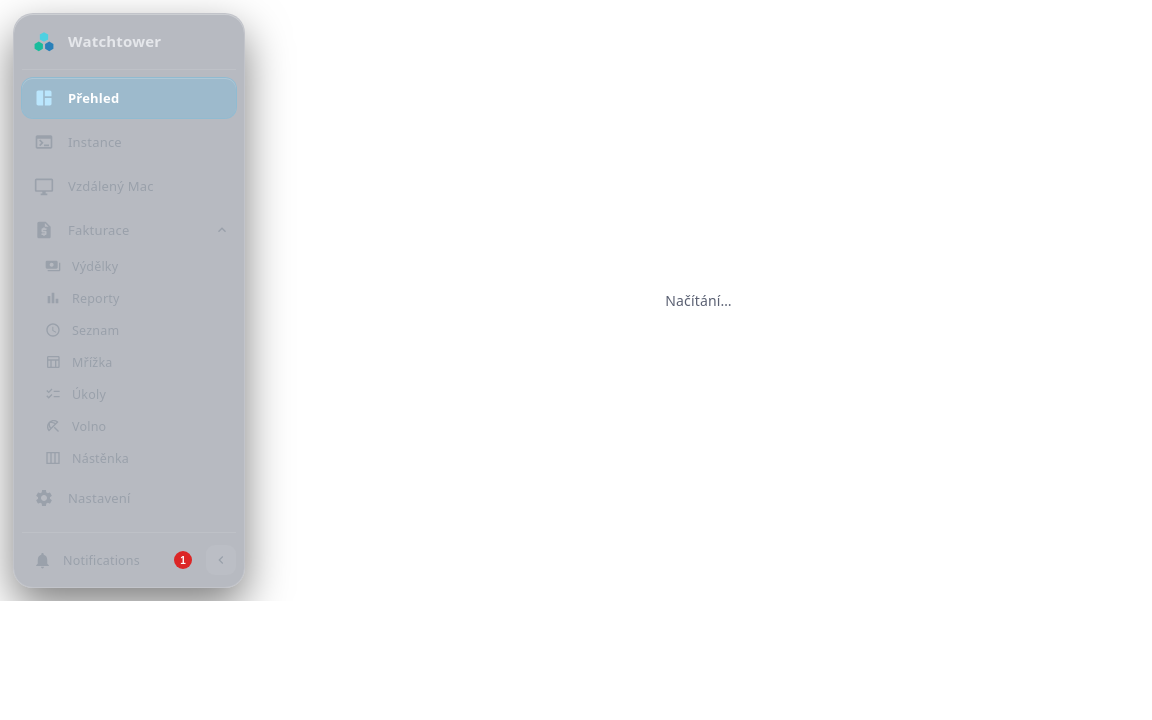
Test case: iPad attention integration › bell → hub → drawer: a thread item opens the reply drawer with "Open in terminal" (connected)
Bell badge reflects the merged count (one thread, no live items).
What coordinates should you click on to do the following:
click the button titled "Notifications"
I would click on:
 (111, 560)
Its box is [22,541,200,579].
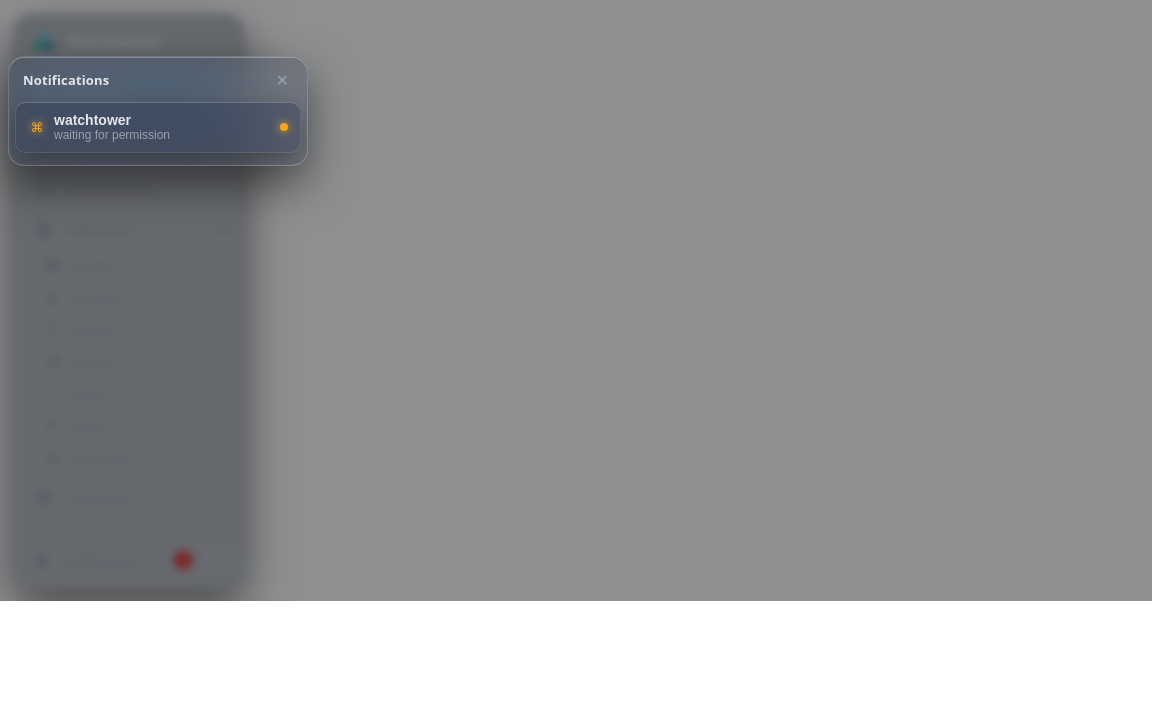
What coordinates should you click on to do the following:
click the text "watchtower"
I would click on:
 (92, 120)
Its box is [54,112,131,128].
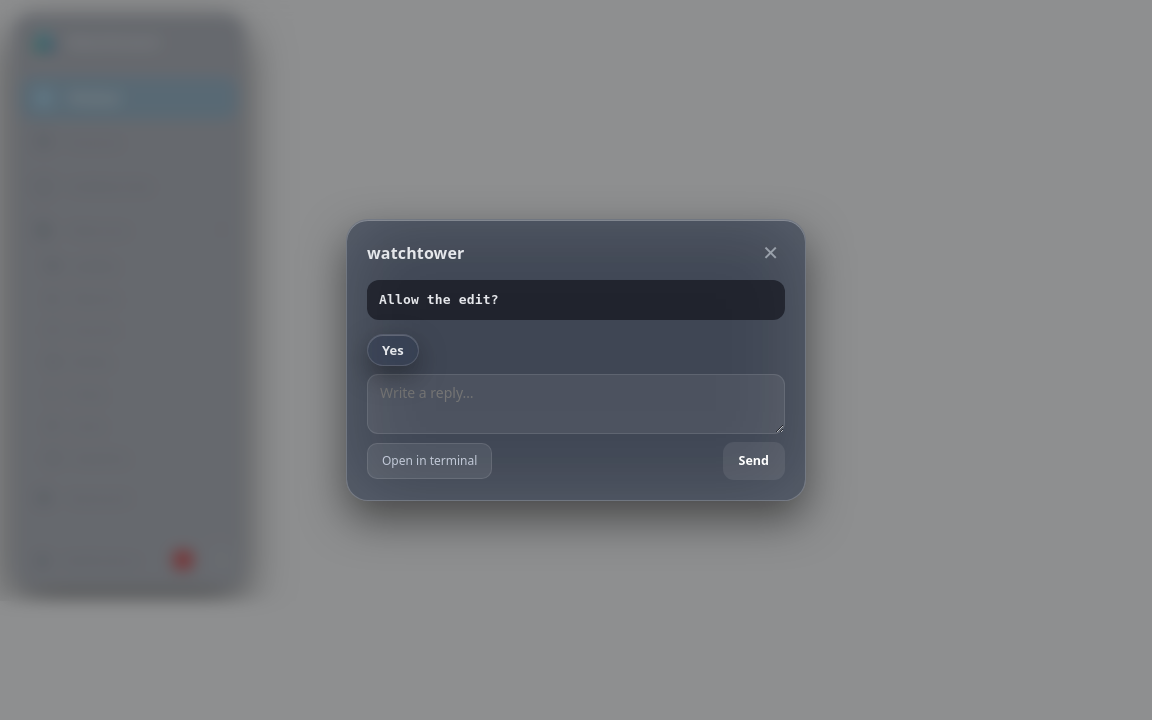
Now the text "Allow the edit?" is shown, box [379,292,499,307]
Now the button "Open in terminal" is shown, box [367,443,492,479]
